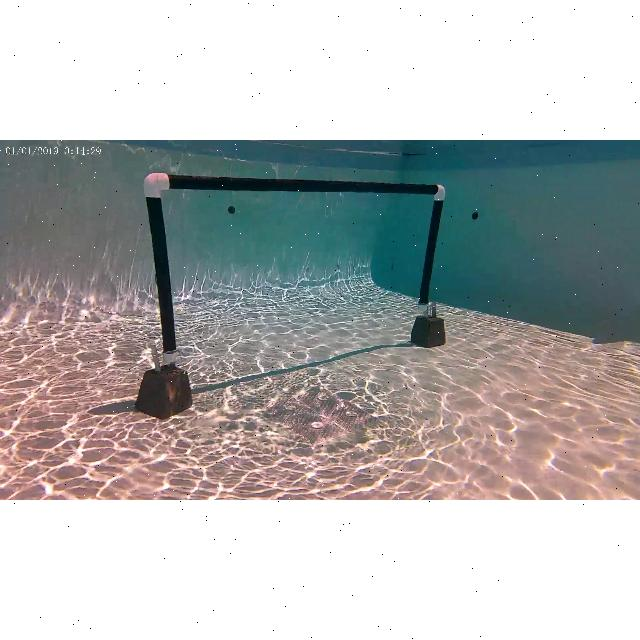prequal gate: (144, 171, 446, 363)
prequal gate leg l: (136, 172, 194, 368)
prequal gate leg r: (416, 169, 450, 325)
